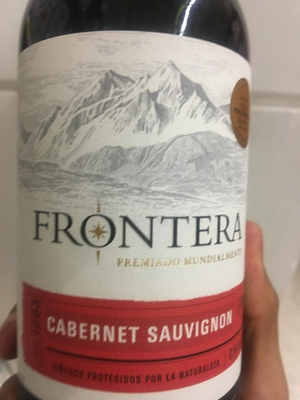frontera cabernet sauvignon: (20, 21, 250, 400)
